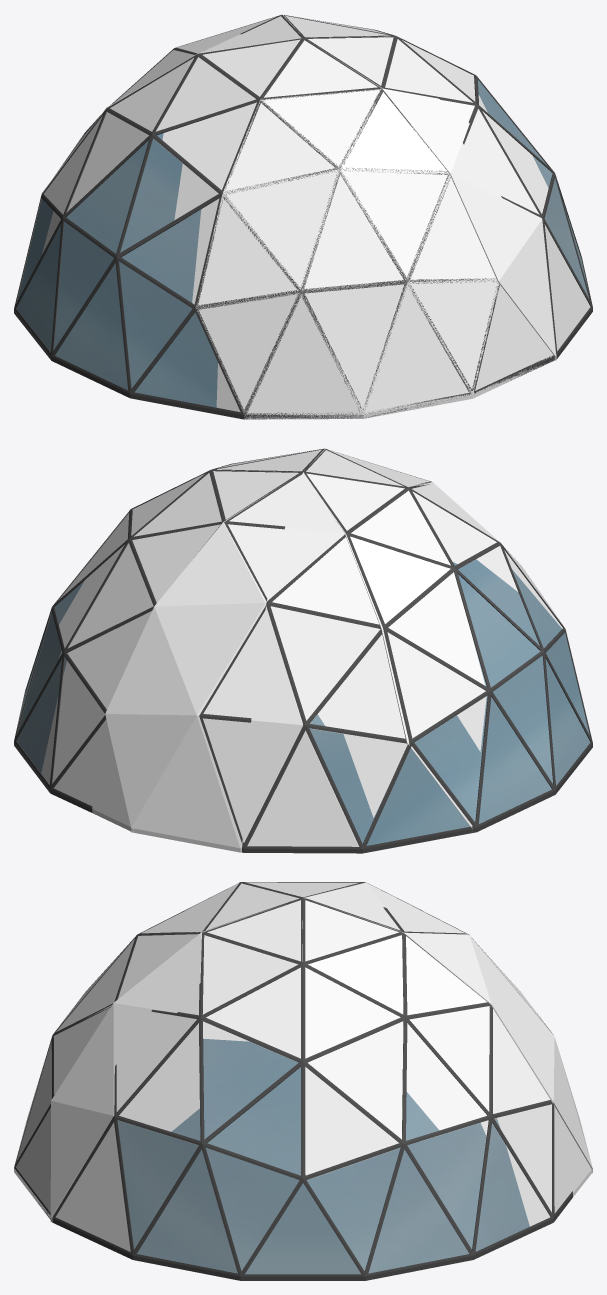
The model's file is Dome 10m (f).dae.
3 views of the same model, one above another, from view 1: azimuth 30°, elevation 25°; view 2: azimuth 150°, elevation 25°; view 3: azimuth 270°, elevation 25° (orthographic).
Visible parts, largest first — view 1: GeodesicDome02_1 (×13), group_42, group_90, group_32, group_44, group_88, group_38, group_43, group_39, group_36, group_33, group_31 (+28 smaller); view 2: GeodesicDome02_1 (×14), group_78, group_70, group_65, group_80, group_74, group_71, group_79, group_75, group_57, group_64, group_62 (+26 smaller); view 3: GeodesicDome02_1 (×13), group_30, group_25, group_2, group_20, group_24, group_14, group_13, group_26, group_83, group_15, group_1 (+24 smaller).
Part boxes in pixels (x1,y1,x2,y2): GeodesicDome02_1 (×13): (14,15,592,419); group_42: (245,292,362,415); group_90: (363,282,472,414); group_32: (301,282,406,413); group_44: (223,169,339,289); group_88: (302,170,405,290); group_38: (340,169,449,280); group_43: (196,292,300,414); group_39: (195,194,300,307); group_36: (407,280,498,393); group_33: (223,99,338,193); group_31: (408,175,496,281); GeodesicDome02_1 (×14): (14,448,592,853); group_78: (131,715,239,847); group_70: (240,725,358,848); group_65: (197,715,302,847); group_80: (154,603,264,714); group_74: (265,603,380,724); group_71: (197,603,302,724); group_79: (105,714,196,827); group_75: (105,607,196,715); group_57: (381,628,485,742); group_64: (306,634,405,738); group_62: (381,572,485,690); GeodesicDome02_1 (×13): (14,882,572,1280); group_30: (307,1021,403,1139); group_25: (300,1067,398,1175); group_2: (51,1116,130,1251); group_20: (113,1003,196,1115); group_24: (305,967,400,1058); group_14: (206,967,300,1058); group_13: (117,1023,199,1131); group_26: (409,1006,489,1111); group_83: (406,1023,486,1130); group_15: (200,932,298,1014); group_1: (308,935,403,1014).
Size of the model in its own units: 394 by 394 by 197.
